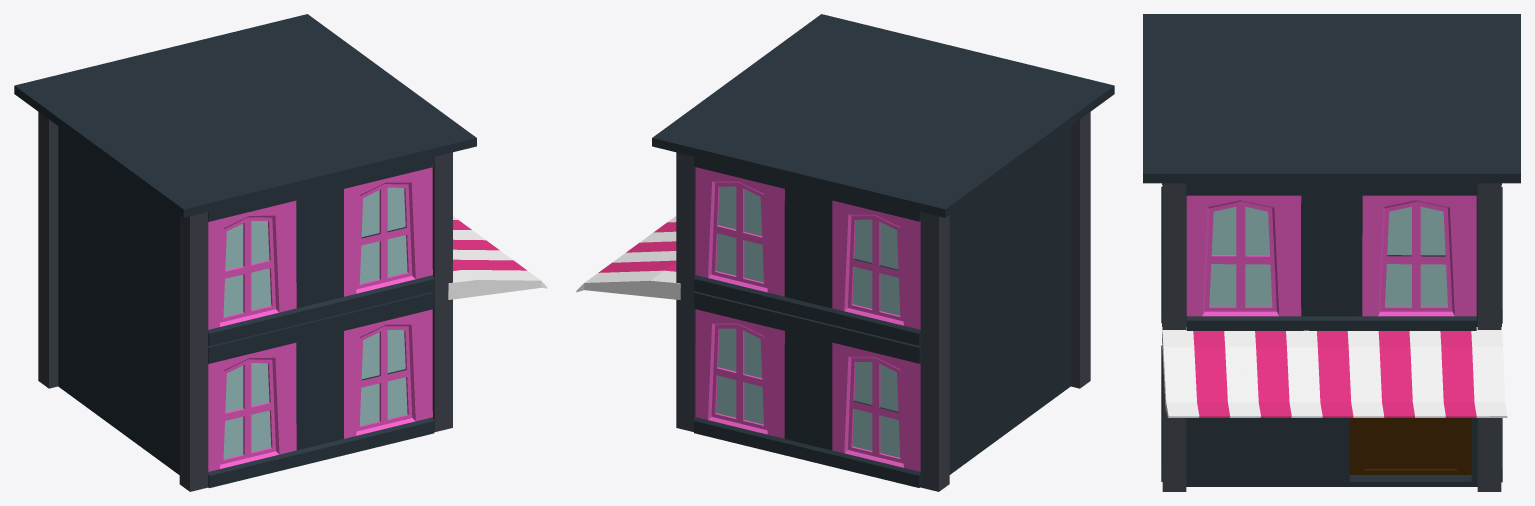
File: buildings_2.fbx_2Story_-_Pink.fbx
The picture shows the model from 3 angles, left to right: view 1: azimuth 30°, elevation 25°; view 2: azimuth 150°, elevation 25°; view 3: azimuth 270°, elevation 25°; orthographic projection. The views are drawn at different scales.
Visible parts, largest first — view 1: Cube.019; view 2: Cube.019; view 3: Cube.019.
Part boxes in pixels (x1=…): Cube.019: x1=14, y1=14, x2=547, y2=491; Cube.019: x1=576, y1=14, x2=1114, y2=491; Cube.019: x1=1143, y1=14, x2=1520, y2=491.
Size of the model in its own units: 1658 by 1237 by 1296.
